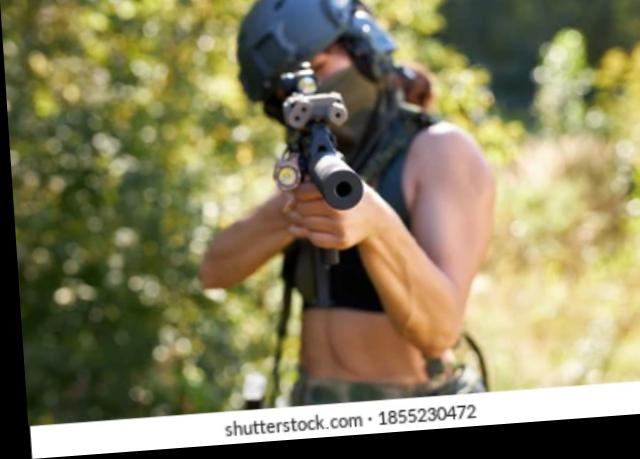other: (196, 0, 496, 404)
